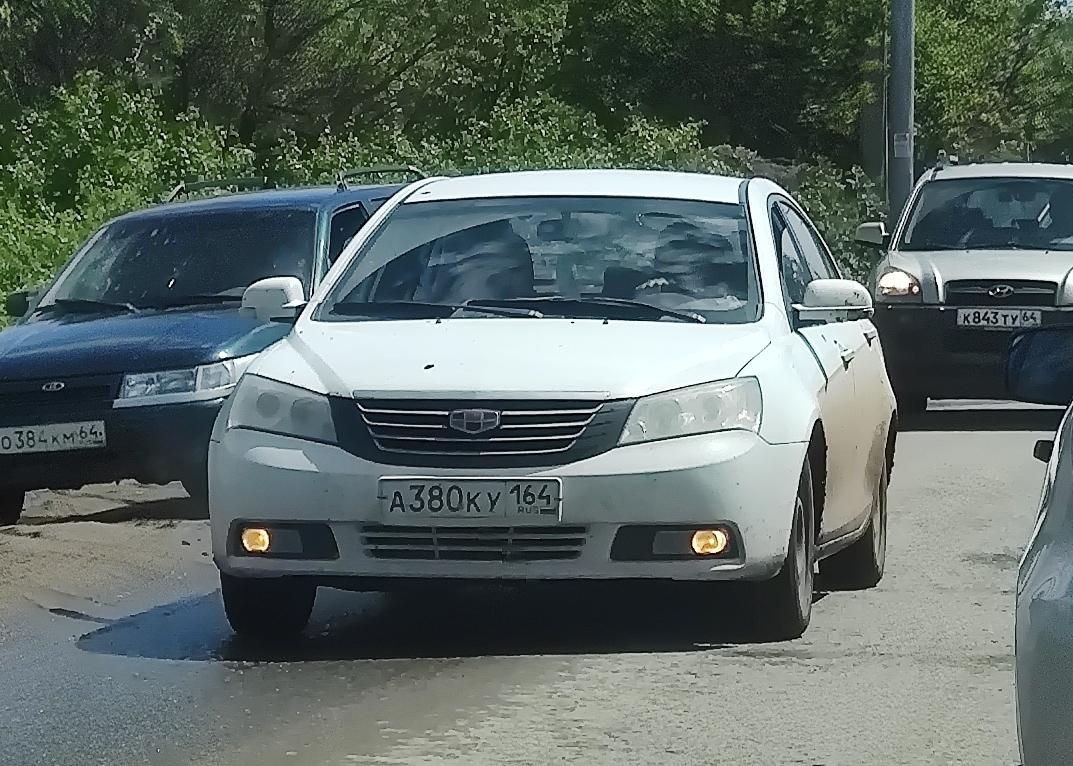license-plateSW: (380, 484, 558, 516), (0, 423, 101, 451), (959, 312, 1042, 328)
